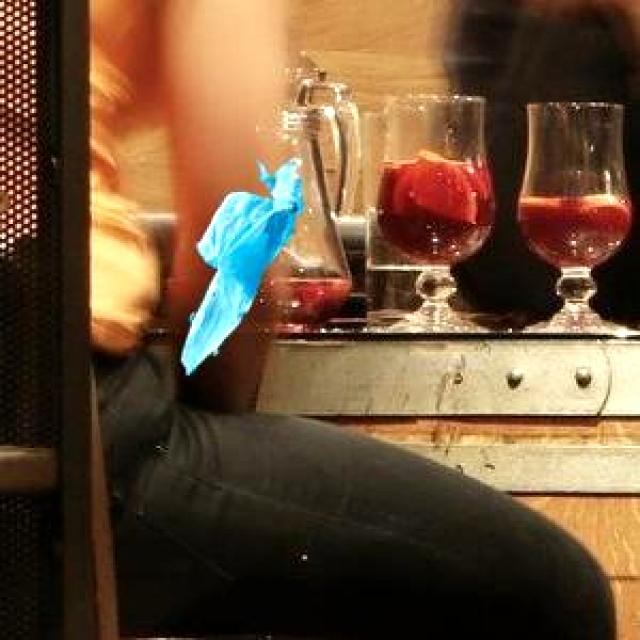Plastic_Bag: (178, 161, 300, 372)
